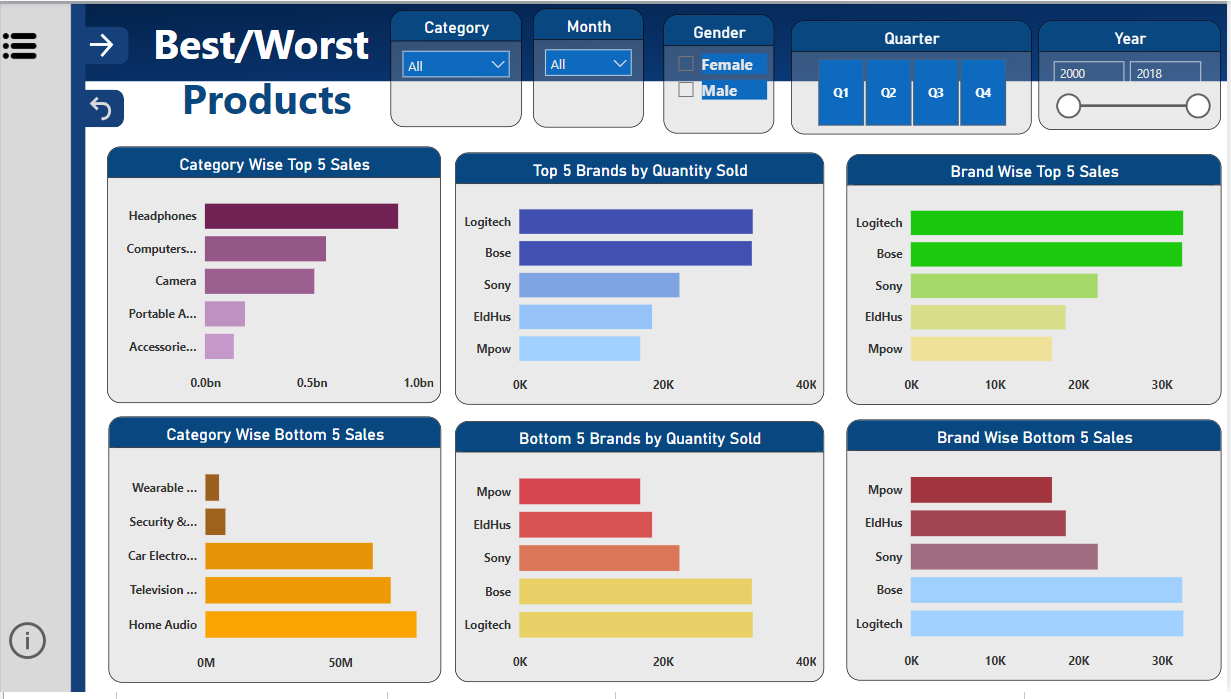

This screenshot's page, from the dashboard's own definition file:
{"tool":"powerbi","page":{"name":"Best/Worst   Products","canvas":[1280,720],"ordinal":2},"visuals":[{"type":"slicer","title":"Year","fields":{"Values":["cleaned.year"]},"box":[1083.5,20.3,189.7,113.8],"z":0,"group":"g1"},{"type":"actionButton","title":"info","box":[4.7,627.1,50,79.7],"z":0,"group":"g2"},{"type":"actionButton","title":"Menu","box":[0,-0.2,54.7,93.8],"z":1000,"group":"g2"},{"type":"slicer","title":"Quarter","fields":{"Values":["cleaned.Quarter"]},"box":[824.5,21,250.7,118.8],"z":1000,"group":"g1"},{"type":"slicer","title":"Month","fields":{"Values":["cleaned.Month"]},"box":[555.7,8.2,115.5,123.7],"z":2000,"group":"g1"},{"type":"slicer","title":"Category","fields":{"Values":["cleaned.category"]},"box":[407.2,9,136.9,122.1],"z":3000,"group":"g1"},{"type":"actionButton","title":"Close Page","box":[89.1,26.4,46.2,39.6],"z":4000},{"type":"barChart","title":"Category Wise Top 5 Sales","fields":{"Y":["Sum(cleaned.amount)"],"Category":["cleaned.category"]},"box":[112.2,152.5,348,267.2],"z":4000,"group":"g1"},{"type":"actionButton","title":"Reset","box":[89.1,92.4,41.2,39.6],"z":5000},{"type":"barChart","title":"Brand Wise Bottom 5 Sales","fields":{"Y":["Sum(cleaned.quantity)"],"Category":["cleaned.brand"]},"box":[882.9,437.1,390.9,272.2],"z":5000,"group":"g1"},{"type":"group","id":"g1","title":"Best/Worst","box":[112.2,8.2,1161.6,701.8],"z":5125},{"type":"group","id":"g2","title":"Menu bar","box":[0,-0.2,54.7,707],"z":5500},{"type":"slicer","title":"Gender","fields":{"Values":["cleaned.gender"]},"box":[692.8,14.8,115.5,123.7],"z":5500,"group":"g1"},{"type":"textbox","box":[148.5,9,260.6,143.5],"z":6000,"group":"g1"},{"type":"barChart","title":"Brand Wise Top 5 Sales","fields":{"Y":["Sum(cleaned.quantity)"],"Category":["cleaned.brand"]},"box":[882.2,159.6,390.7,261],"z":7000,"group":"g1"},{"type":"barChart","title":"Top 5 Brands by Quantity Sold","fields":{"Y":["Sum(cleaned.quantity)"],"Category":["cleaned.brand"]},"box":[474.2,158.1,384.5,262.6],"z":8000,"group":"g1"},{"type":"barChart","title":"Category Wise Bottom 5 Sales","fields":{"Y":["Sum(cleaned.amount)"],"Category":["cleaned.category"]},"box":[113.8,432.9,346.4,277.1],"z":9000,"group":"g1"},{"type":"barChart","title":"Bottom 5 Brands by Quantity Sold","fields":{"Y":["Sum(cleaned.quantity)"],"Category":["cleaned.brand"]},"box":[474.2,437.8,384.5,272],"z":10000,"group":"g1"}]}

Visuals, with their boxes in screenshot pixels (x1, y1, x2, y2), scaled from the page's 1280x720 canvas onto the 1231x699 screenshot:
"Year" slicer: detection(1042, 20, 1224, 130)
"info" actionButton: detection(5, 609, 53, 686)
"Menu" actionButton: detection(0, 0, 53, 91)
"Quarter" slicer: detection(793, 20, 1034, 136)
"Month" slicer: detection(534, 8, 646, 128)
"Category" slicer: detection(392, 9, 523, 127)
"Close Page" actionButton: detection(86, 26, 130, 64)
"Category Wise Top 5 Sales" barChart: detection(108, 148, 443, 407)
"Reset" actionButton: detection(86, 90, 125, 128)
"Brand Wise Bottom 5 Sales" barChart: detection(849, 424, 1225, 689)
"Best/Worst" group: detection(108, 8, 1225, 689)
"Menu bar" group: detection(0, 0, 53, 686)
"Gender" slicer: detection(666, 14, 777, 134)
textbox: detection(143, 9, 393, 148)
"Brand Wise Top 5 Sales" barChart: detection(848, 155, 1224, 408)
"Top 5 Brands by Quantity Sold" barChart: detection(456, 153, 826, 408)
"Category Wise Bottom 5 Sales" barChart: detection(109, 420, 443, 689)
"Bottom 5 Brands by Quantity Sold" barChart: detection(456, 425, 826, 689)
